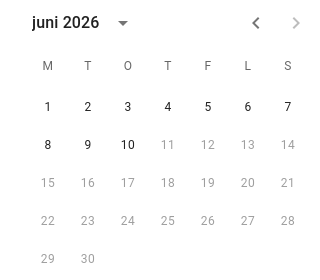
Test: HabitCalendar › shows an 'Ikke gjort' tooltip for a day without a checkin
This screenshot has width=320, height=280.
Hover over the cell "8".
mouse_move(48, 145)  # box [30,127,66,163]
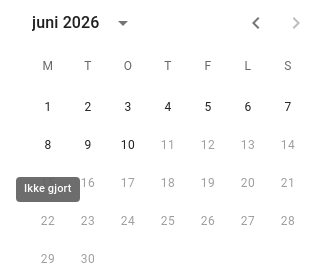
Expected: the tooltip reads "Ikke gjort", [24,182,72,195]
